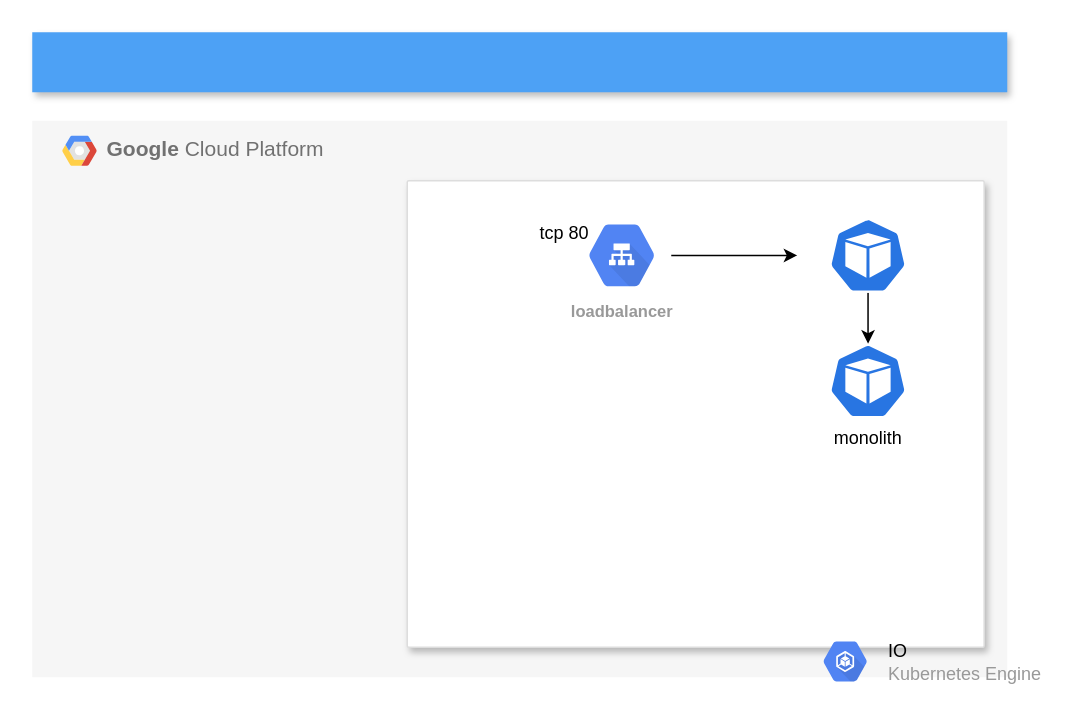
Image size: 1067x716. Some labels were removed from this diagram. Here are the shapes that lost their labels. From the top down, the centre of each, then its label:
At [521,64]: "GSP021".
At [867,255]: "nginx".
